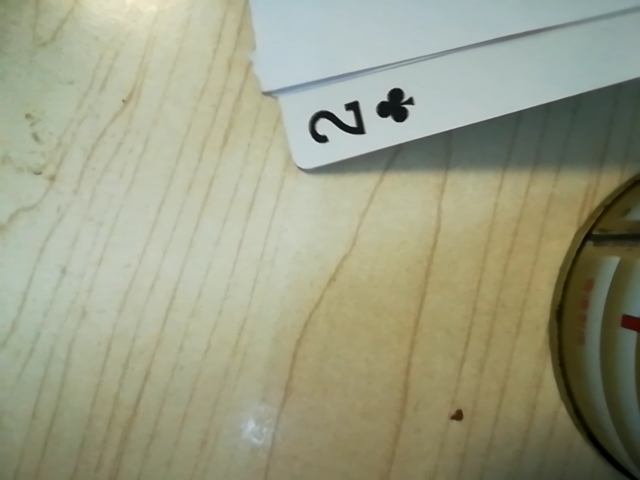mh 2: (299, 73, 431, 159)
